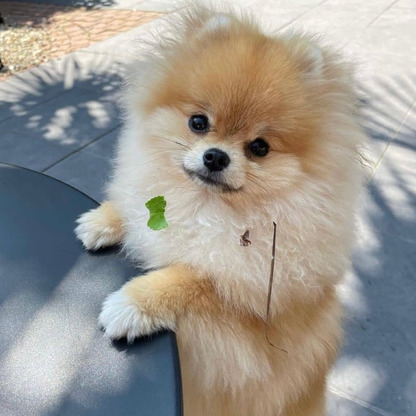Pomeranian: (114, 10, 365, 403)
